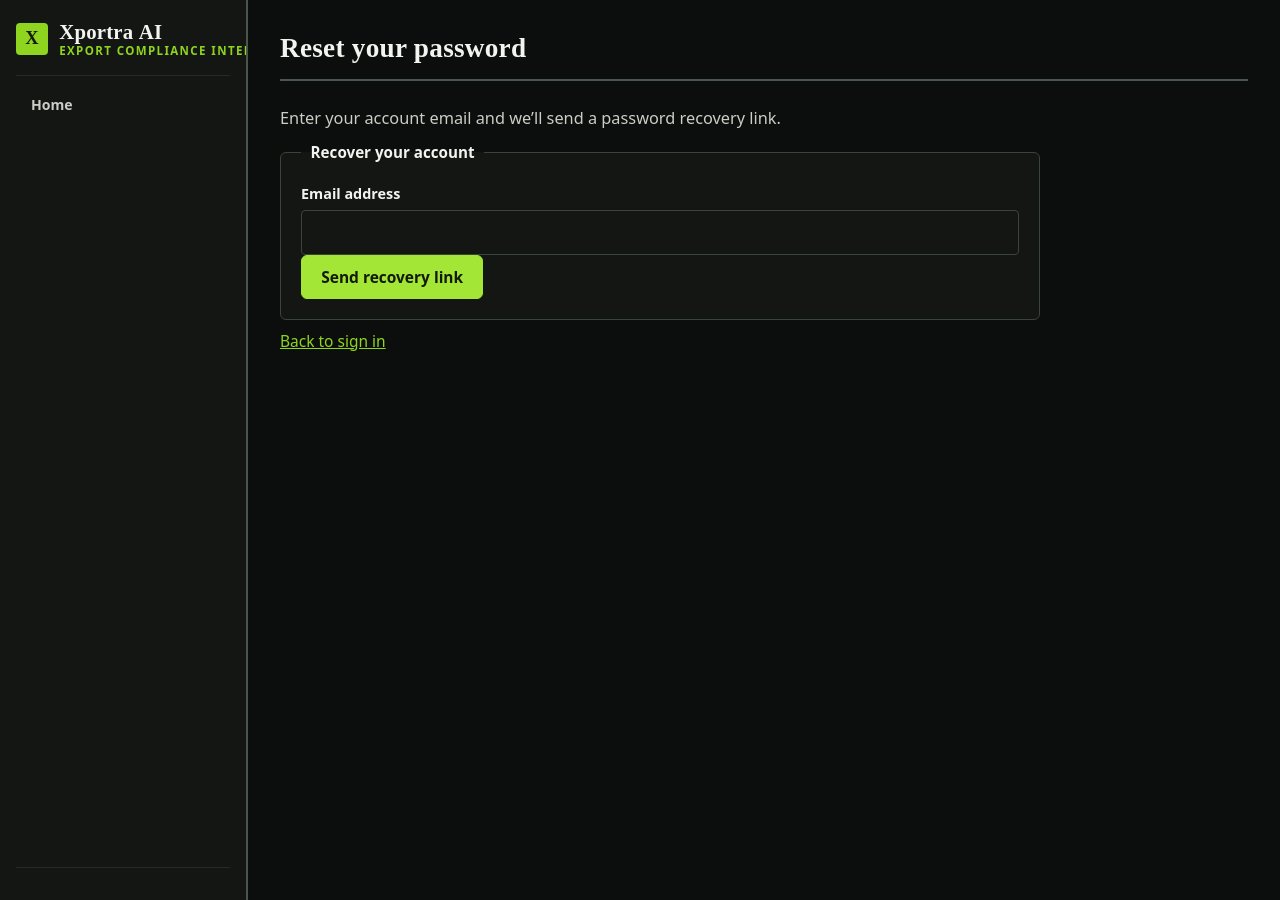
Test: ResetPasswordPage › renders recovery email form on direct access and validates email there
Expected: the button "Send recovery link" is shown, x1=301 y1=255 x2=483 y2=299
Type "invalid" into the field labelled "Email address" at x=660, y=233, box x1=301 y1=210 x2=1019 y2=255
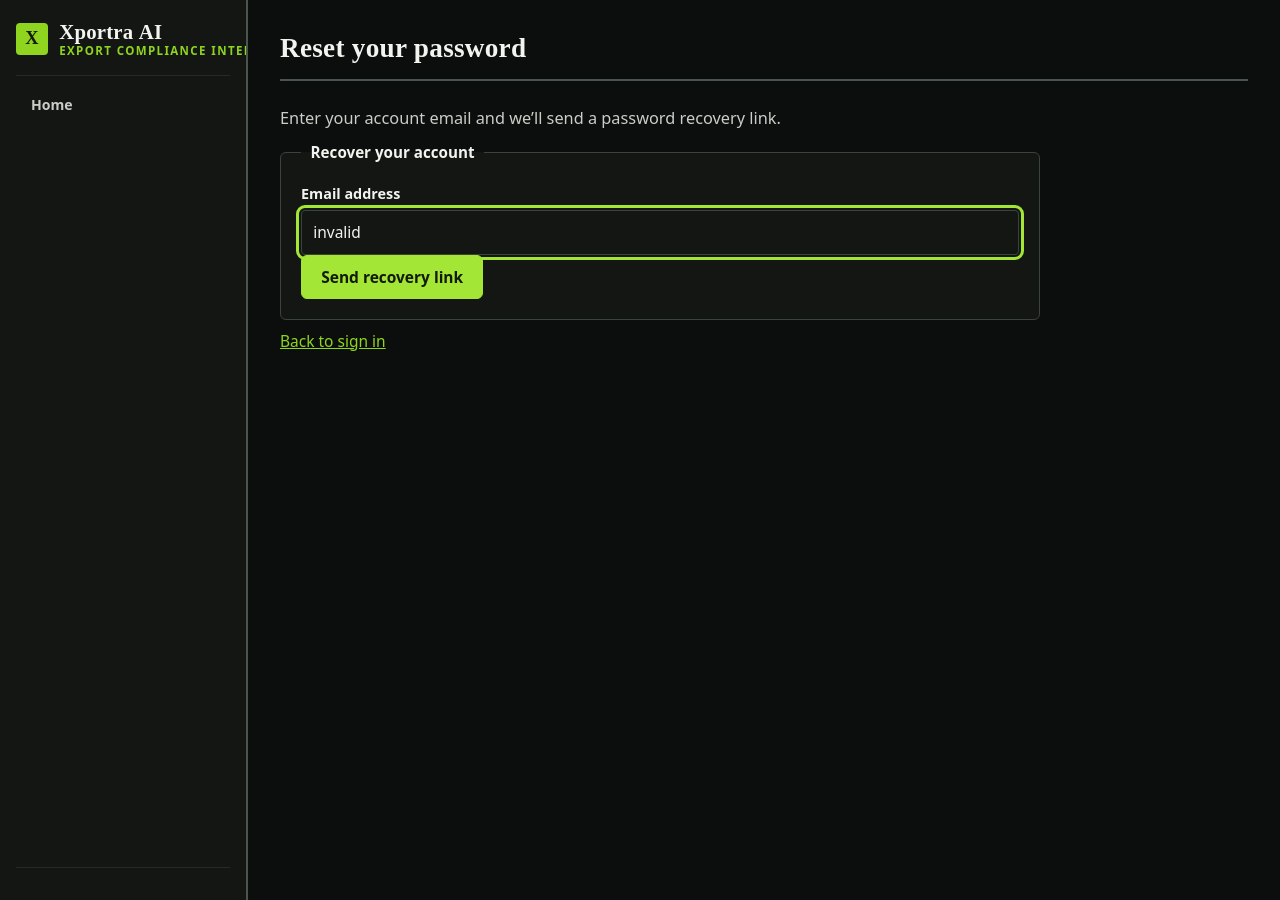
Click the button "Send recovery link" at x=392, y=277, box x1=301 y1=255 x2=483 y2=299
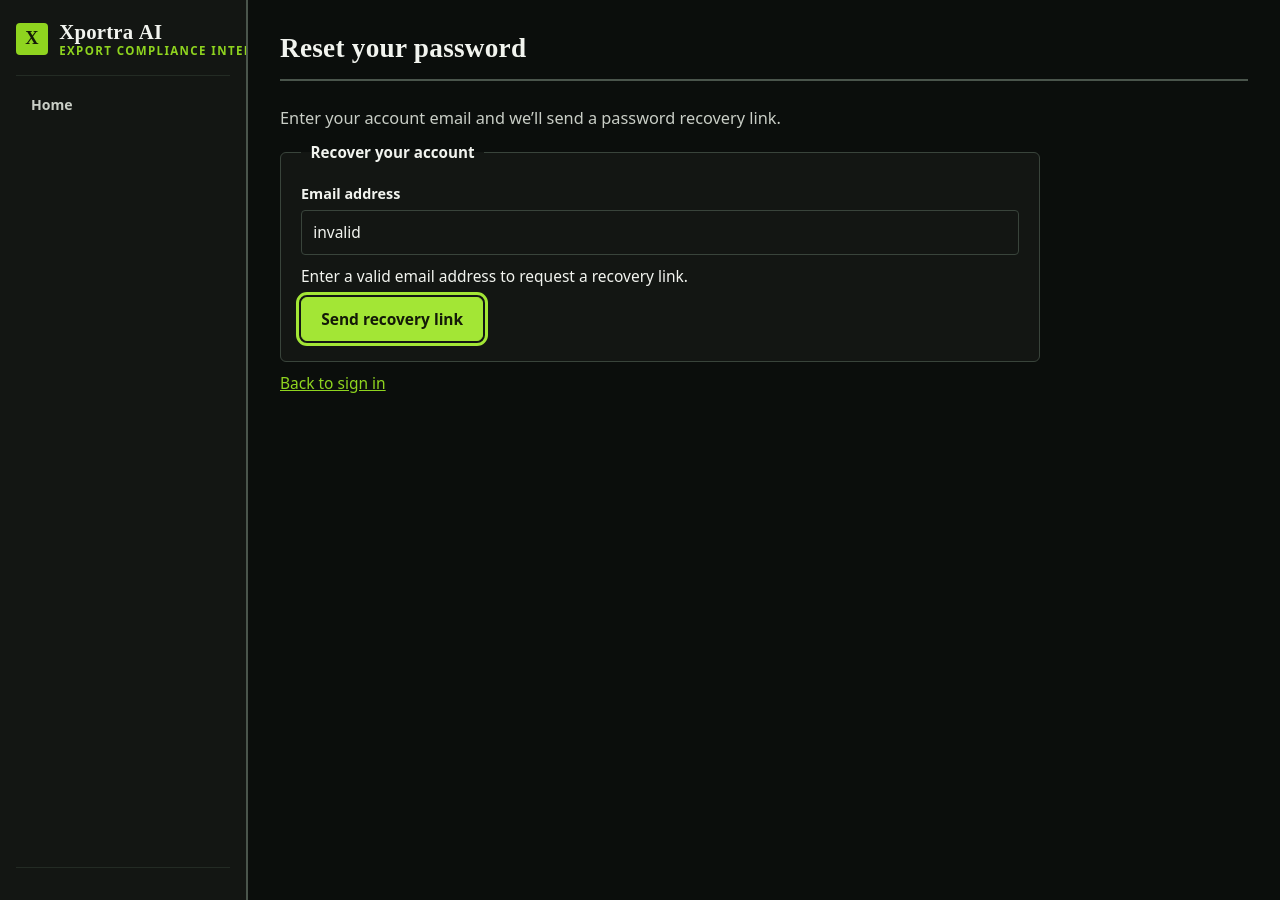
Result: the message shows "valid email address" at x1=301 y1=265 x2=688 y2=287
